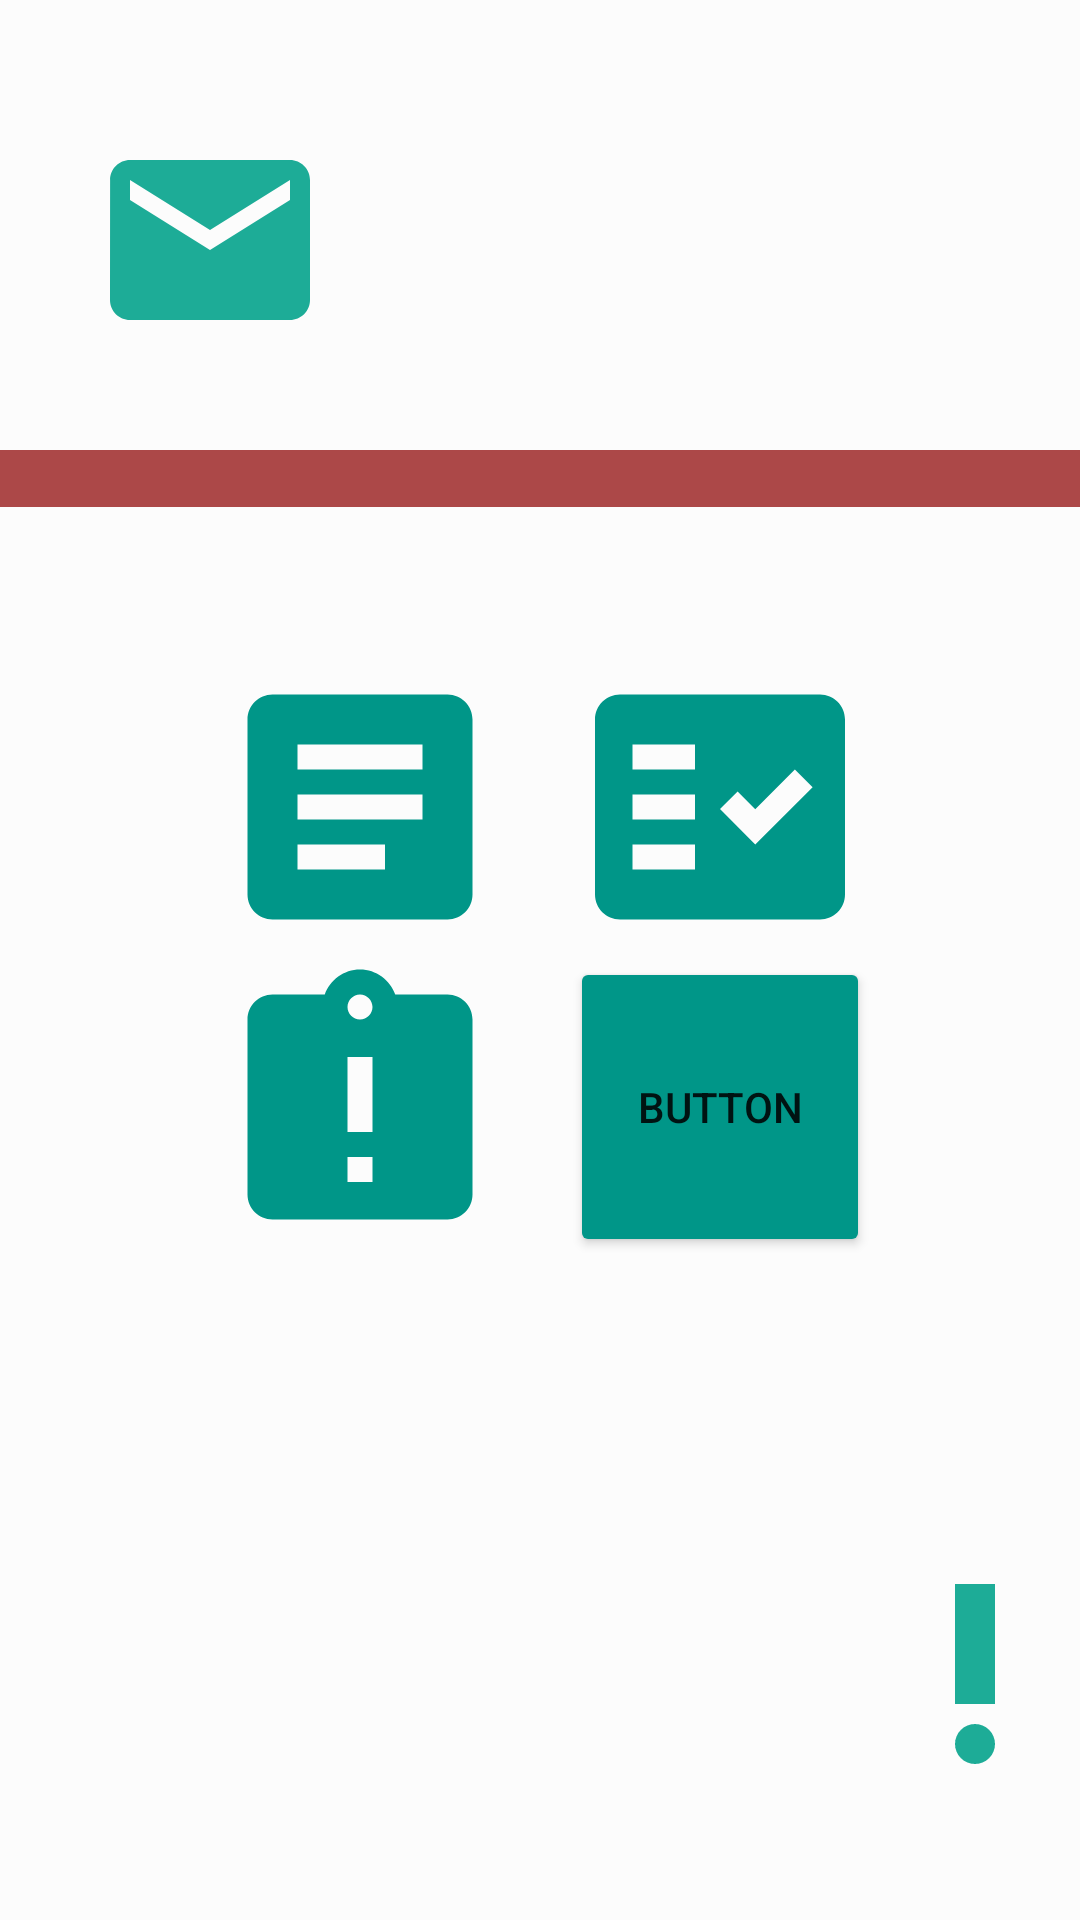

Where icons sit on this 1080 × 1920 app screen, as (x1, y1, x2, y2):
article: (247, 694, 473, 920)
assignment late: (247, 969, 473, 1220)
fact check: (595, 694, 845, 920)
